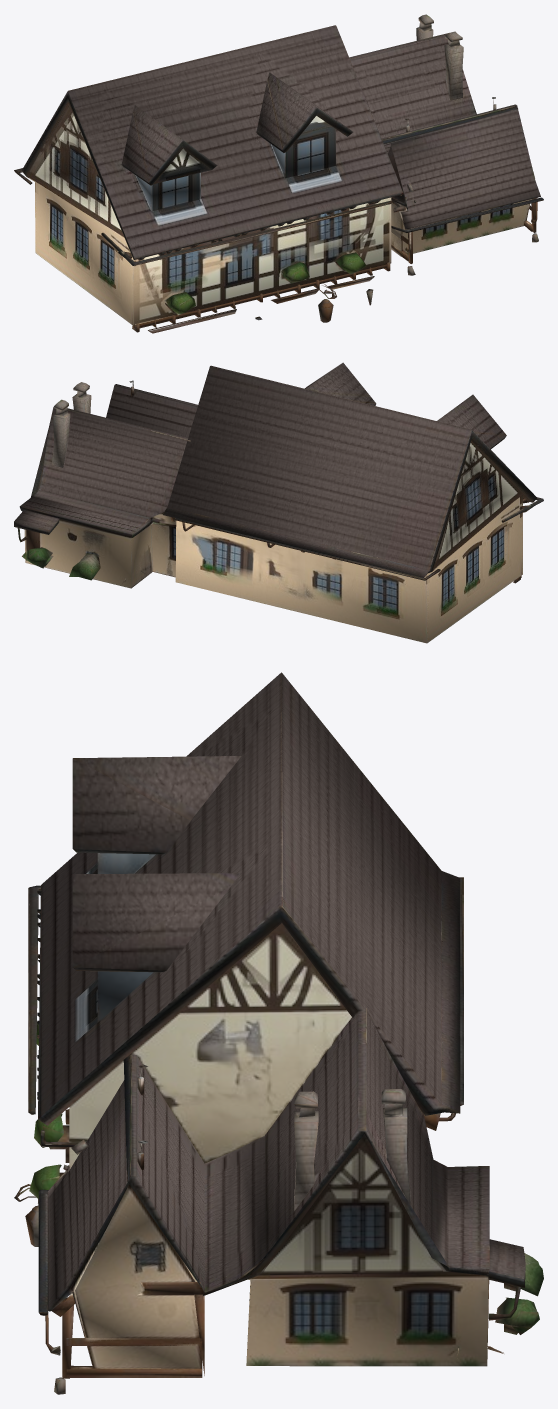
The model's file is building-inn.glb.
3 views of the same model, one above another, from view 1: azimuth 30°, elevation 25°; view 2: azimuth 150°, elevation 25°; view 3: azimuth 270°, elevation 25° (orthographic). The views are drawn at different scales.
Bounding box in the file's own units: 0.959 × 0.5132 × 0.5947.
1 material, 1 textured.
